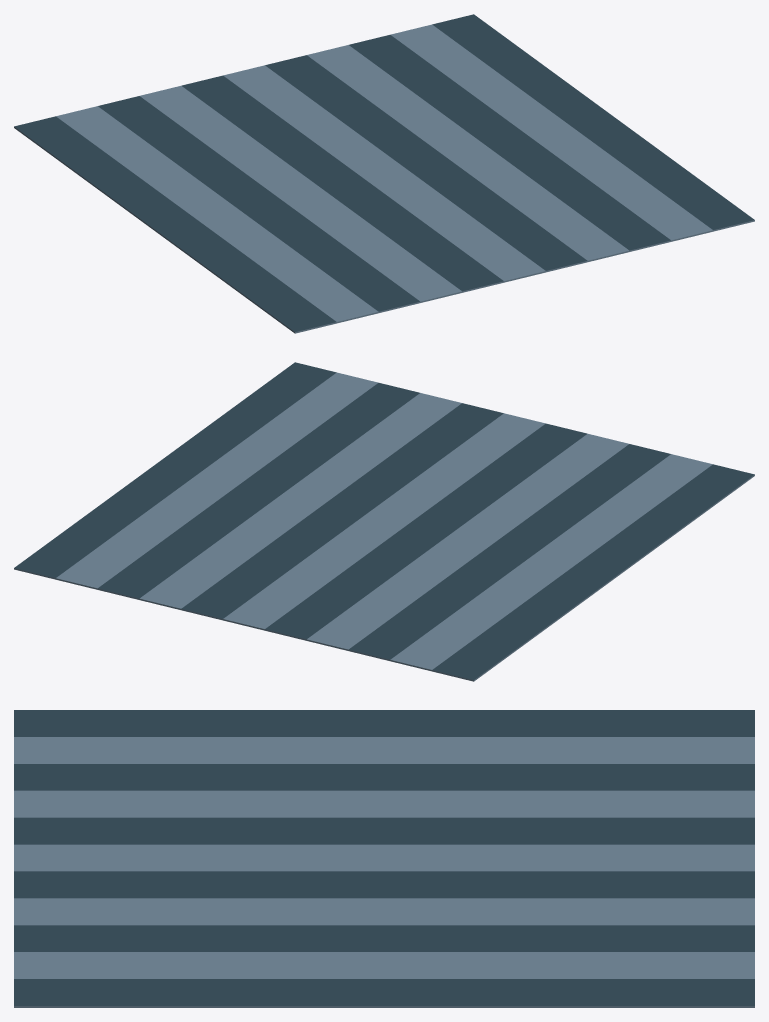
The model's file is koc3.fbx.
3 views of the same model, one above another, from view 1: azimuth 30°, elevation 25°; view 2: azimuth 150°, elevation 25°; view 3: azimuth 270°, elevation 25° (orthographic). The views are drawn at different scales.
Visible parts, largest first — view 1: koc3; view 2: koc3; view 3: koc3.
Part boxes in pixels (x1,y1,x2,y2): koc3: (14,14,754,333); koc3: (14,362,754,681); koc3: (14,710,754,1007).
Bounding box in the file's own units: 325 × 307 × 0.9519.
